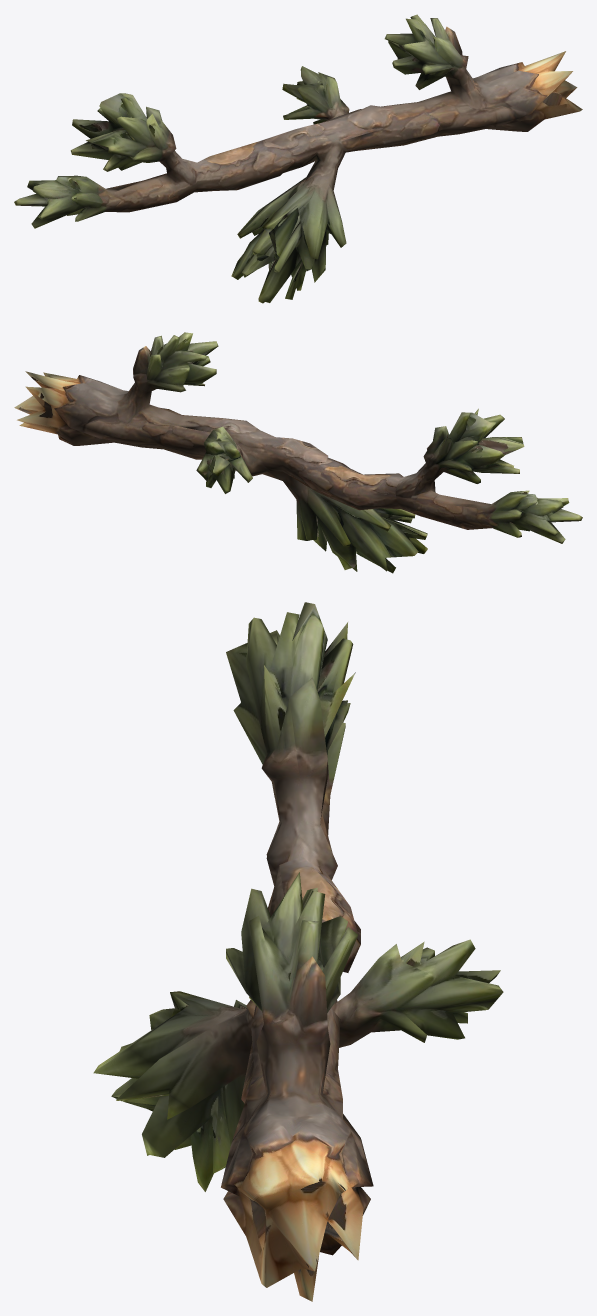
Rendered from LL_StormBranch.fbx.
The picture shows the model from 3 angles, top to bottom: view 1: azimuth 30°, elevation 25°; view 2: azimuth 150°, elevation 25°; view 3: azimuth 270°, elevation 25°; orthographic projection. The views are drawn at different scales.
Visible parts, largest first — view 1: tripo_node_dfb585f7; view 2: tripo_node_dfb585f7; view 3: tripo_node_dfb585f7.
Boxes of the visible parts, bbox=[...] form: tripo_node_dfb585f7: bbox=[14, 14, 582, 303]; tripo_node_dfb585f7: bbox=[14, 332, 582, 573]; tripo_node_dfb585f7: bbox=[93, 602, 503, 1301].
Bounding box in the file's own units: 98.06 × 30.89 × 37.03.
1 material, 1 textured.
